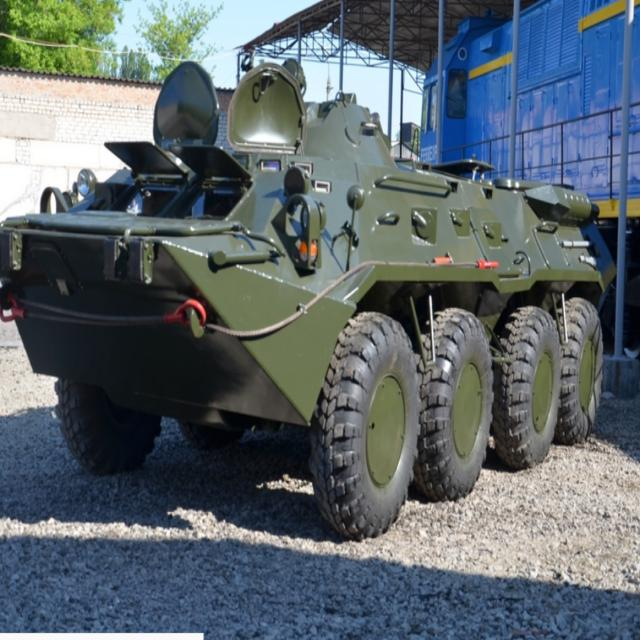MIL_APC: (2, 86, 621, 520)
